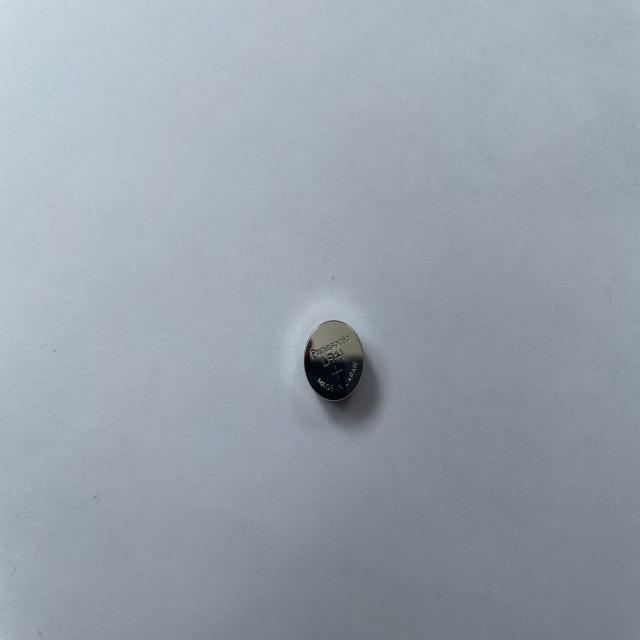COIN: (300, 320, 366, 402)
